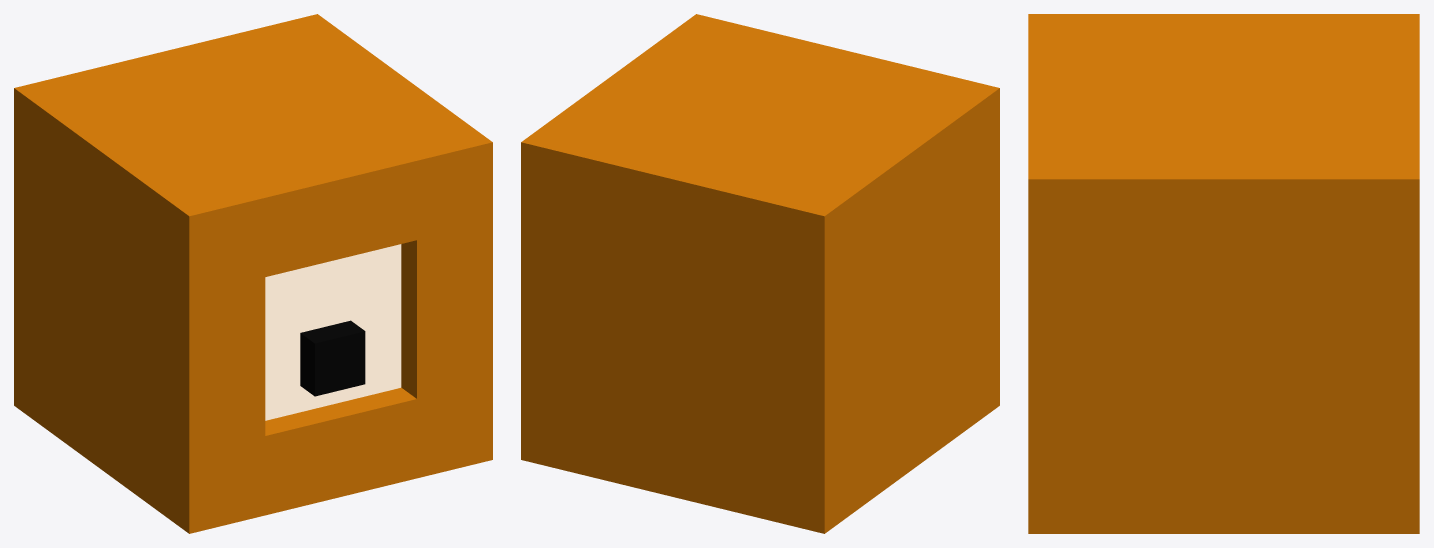
File: cyclops-water.glb
3 views of the same model, side by side, from view 1: azimuth 30°, elevation 25°; view 2: azimuth 150°, elevation 25°; view 3: azimuth 270°, elevation 25° (orthographic). The views are drawn at different scales.
Visible parts, largest first — view 1: cyclops-water, cyclops-water-white, cyclops-water-pupil; view 2: cyclops-water; view 3: cyclops-water.
Part boxes in pixels (x1=…): cyclops-water: x1=14, y1=14, x2=492, y2=533; cyclops-water-white: x1=265, y1=244, x2=401, y2=420; cyclops-water-pupil: x1=300, y1=320, x2=365, y2=396; cyclops-water: x1=521, y1=14, x2=999, y2=533; cyclops-water: x1=1028, y1=14, x2=1419, y2=533.
Size of the model in its own units: 0.6 by 0.6 by 0.6.
